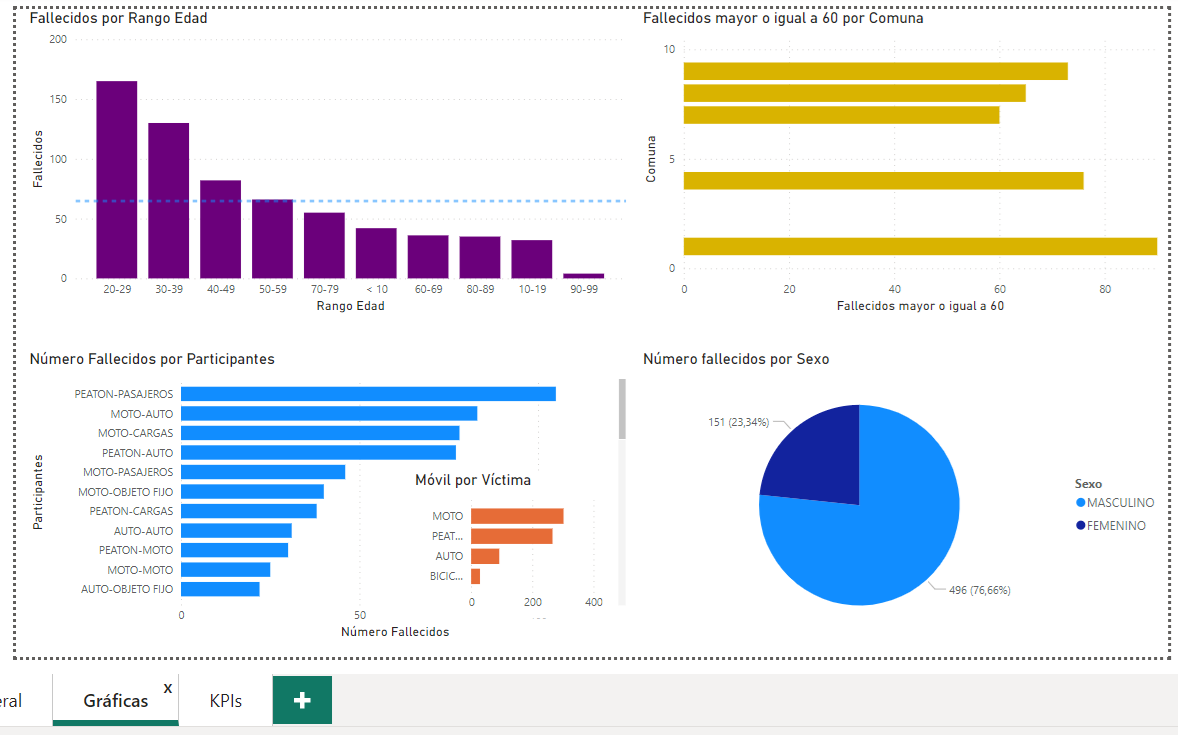

Layout of this report page (visuals, bound fields, positions):
{"tool":"powerbi","page":{"name":"Gráficas","canvas":[1280,720],"ordinal":1},"visuals":[{"type":"clusteredColumnChart","fields":{"Category":["ID_hecho(VICTIMAS).Rango_edad"],"Y":["CountNonNull(ID_hecho(VICTIMAS).FECHA_FALLECIMIENTO)"]},"box":[10,0,672,342],"z":0},{"type":"clusteredBarChart","fields":{"Category":["ID(HECHOS).PARTICIPANTES"],"Y":["CountNonNull(ID(HECHOS).N_VICTIMAS)"]},"box":[10,378,672,326],"z":1000},{"type":"clusteredBarChart","fields":{"Y":["Sum(ID(HECHOS).N_VICTIMAS)"],"Category":["ID(HECHOS).VICTIMA"]},"box":[438,514,218,164],"z":2000},{"type":"clusteredBarChart","fields":{"Category":["ID(HECHOS).COMUNA"],"Y":["CountNonNull(ID(HECHOS).N_VICTIMAS)"]},"box":[692,0,588,342],"z":3000},{"type":"pieChart","fields":{"Category":["ID_hecho(VICTIMAS).SEXO"],"Y":["CountNonNull(ID_hecho(VICTIMAS).FECHA_FALLECIMIENTO)"]},"box":[692,378,588,326],"z":4000}]}

Visuals, with their boxes on the page's 1280x720 design canvas (x1, y1, x2, y2). These are canvas units, not pixel positions in the 1178x735 screenshot, which may show the page scaled, cropped or inside an application window:
clusteredColumnChart - ID_hecho(VICTIMAS).Rango_edad x CountNonNull(ID_hecho(VICTIMAS).FECHA_FALLECIMIENTO): {"x1": 10, "y1": 0, "x2": 682, "y2": 342}
clusteredBarChart - ID(HECHOS).PARTICIPANTES x CountNonNull(ID(HECHOS).N_VICTIMAS): {"x1": 10, "y1": 378, "x2": 682, "y2": 704}
clusteredBarChart - Sum(ID(HECHOS).N_VICTIMAS) x ID(HECHOS).VICTIMA: {"x1": 438, "y1": 514, "x2": 656, "y2": 678}
clusteredBarChart - ID(HECHOS).COMUNA x CountNonNull(ID(HECHOS).N_VICTIMAS): {"x1": 692, "y1": 0, "x2": 1280, "y2": 342}
pieChart - ID_hecho(VICTIMAS).SEXO x CountNonNull(ID_hecho(VICTIMAS).FECHA_FALLECIMIENTO): {"x1": 692, "y1": 378, "x2": 1280, "y2": 704}
